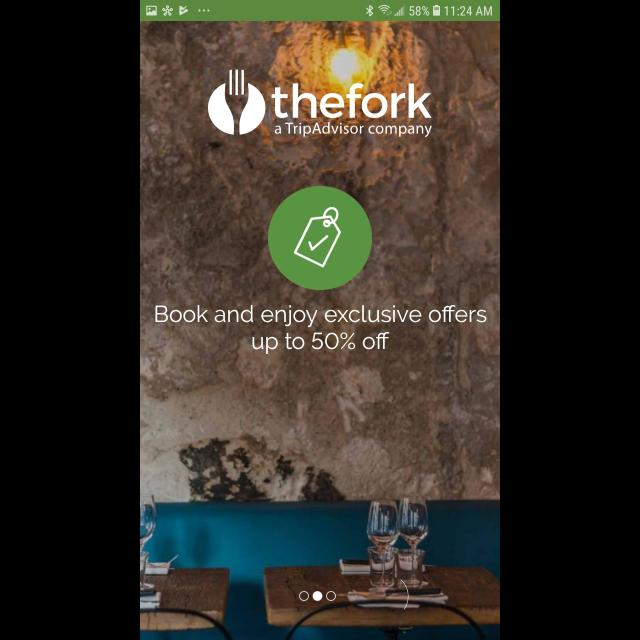backgroundimage: (140, 22, 500, 640)
image: (268, 186, 372, 290), (208, 69, 266, 135)
pageindicator: (299, 590, 337, 602)
text: (156, 305, 487, 355), (272, 84, 432, 138)
uppertaskbar: (140, 1, 500, 22)
